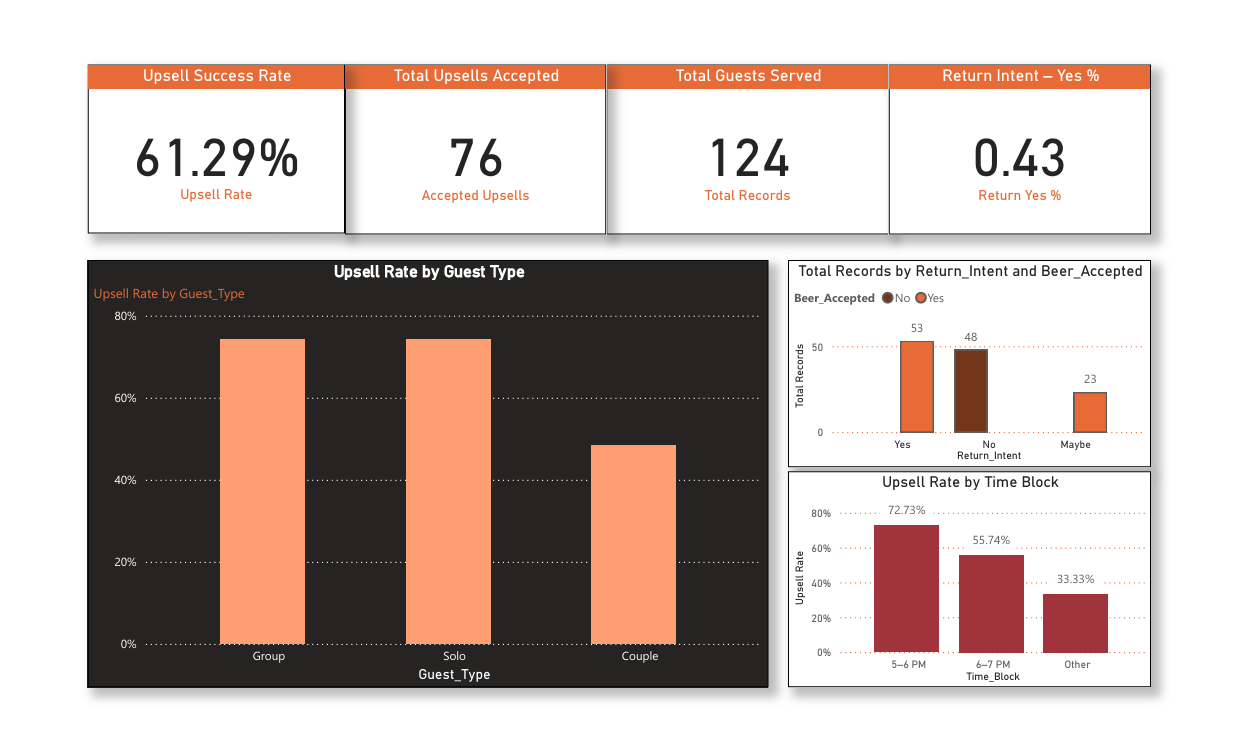

This screenshot's page, from the dashboard's own definition file:
{"tool":"powerbi","page":{"name":"Page 1","canvas":[1280,720],"ordinal":0},"visuals":[{"type":"clusteredColumnChart","fields":{"Category":["Beer_upsell.Return_Intent"],"Series":["Beer_upsell.Beer_Accepted"],"Y":["Beer_upsell.Total Records"]},"box":[795,246.8,371,212],"z":0},{"type":"clusteredColumnChart","title":"Upsell Rate by Guest Type","fields":{"Category":["Beer_upsell.Guest_Type"],"Y":["Beer_upsell.Upsell Rate"]},"box":[78.7,246.8,696.5,437.6],"z":1000},{"type":"clusteredColumnChart","title":"Upsell Rate by Time Block","fields":{"Category":["Beer_upsell.Time_Block"],"Y":["Beer_upsell.Upsell Rate"]},"box":[795,463.3,371,221.1],"z":2000},{"type":"card","title":"Total Guests Served","fields":{"Values":["Beer_upsell.Total Records"]},"box":[608.7,46.9,289.2,174.1],"z":3000},{"type":"card","title":"Total Upsells Accepted","fields":{"Values":["Beer_upsell.Accepted Upsells"]},"box":[342.2,46.9,266.5,174.1],"z":4000},{"type":"card","title":"Upsell Success Rate","fields":{"Values":["Beer_upsell.Upsell Rate"]},"box":[78.7,46.9,263.5,172.6],"z":5000},{"type":"card","title":"Return Intent – Yes %","fields":{"Values":["Beer_upsell.Return Yes %"]},"box":[897.9,46.9,268,174.1],"z":6000}]}

Visuals, with their boxes in screenshot pixels (x1, y1, x2, y2):
clusteredColumnChart - Beer_upsell.Return_Intent x Beer_upsell.Beer_Accepted: {"x1": 783, "y1": 259, "x2": 1142, "y2": 464}
"Upsell Rate by Guest Type" clusteredColumnChart: {"x1": 89, "y1": 259, "x2": 764, "y2": 682}
"Upsell Rate by Time Block" clusteredColumnChart: {"x1": 783, "y1": 468, "x2": 1142, "y2": 682}
"Total Guests Served" card: {"x1": 603, "y1": 65, "x2": 883, "y2": 234}
"Total Upsells Accepted" card: {"x1": 344, "y1": 65, "x2": 603, "y2": 234}
"Upsell Success Rate" card: {"x1": 89, "y1": 65, "x2": 344, "y2": 232}
"Return Intent – Yes %" card: {"x1": 883, "y1": 65, "x2": 1142, "y2": 234}
